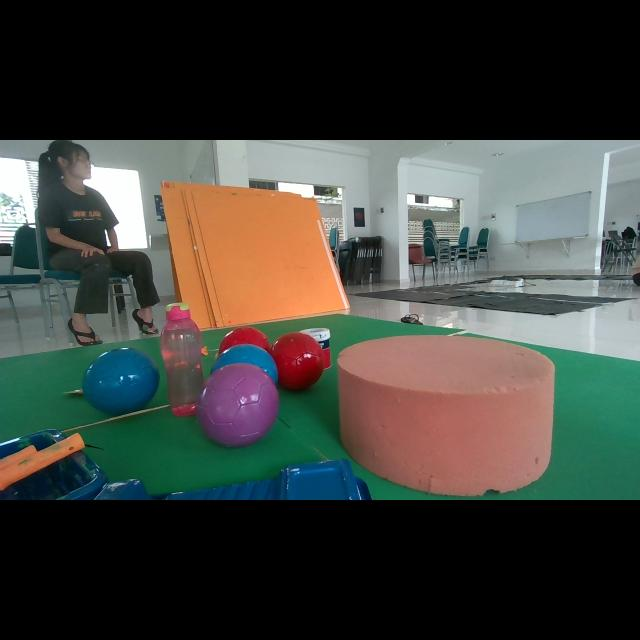B: (82, 348, 160, 414), (211, 344, 278, 384)
P: (196, 364, 279, 448)
R: (271, 332, 326, 389), (218, 326, 271, 354)
